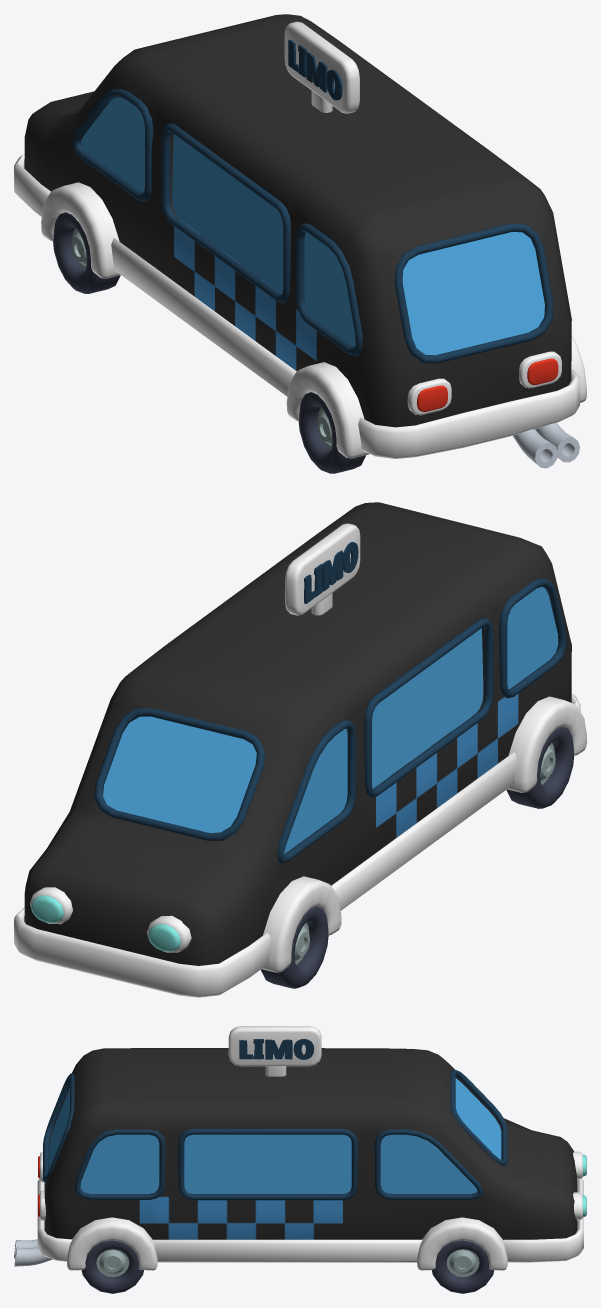
Rendered from Taxi_tier3.fbx.
The picture shows the model from 3 angles, top to bottom: view 1: azimuth 30°, elevation 25°; view 2: azimuth 150°, elevation 25°; view 3: azimuth 270°, elevation 25°; orthographic projection. The views are drawn at different scales.
Visible parts, largest first — view 1: Cube.046, Cube.048, Cube.047, Cylinder.035, Cylinder.038, Cube.045, Cylinder.034, Cylinder.037, Text.008, Cube.050, Cube.051, Cylinder.039 (+1 smaller); view 2: Cube.046, Cube.048, Cube.047, Cylinder.038, Cylinder.035, Cube.045, Cylinder.037, Cylinder.034, Text.008, Cylinder.033, Cylinder.032; view 3: Cube.046, Cube.048, Cube.047, Cylinder.035, Cylinder.038, Cube.045, Cylinder.037, Cylinder.034, Text.009, Cylinder.036, Cylinder.032.
Boxes of the visible parts, <box> form: Cube.046: <box>24,14,571,427</box>; Cube.048: <box>14,154,579,458</box>; Cube.047: <box>72,89,553,363</box>; Cylinder.035: <box>286,335,586,458</box>; Cylinder.038: <box>41,182,120,278</box>; Cube.045: <box>284,21,359,113</box>; Cylinder.034: <box>298,392,365,473</box>; Cylinder.037: <box>53,212,120,293</box>; Text.008: <box>288,39,342,100</box>; Cube.050: <box>407,351,561,415</box>; Cube.051: <box>417,358,558,411</box>; Cylinder.039: <box>513,429,557,468</box>; Cube.046: <box>24,502,571,965</box>; Cube.048: <box>14,693,580,997</box>; Cube.047: <box>94,578,566,863</box>; Cylinder.038: <box>261,876,341,972</box>; Cylinder.035: <box>507,696,586,792</box>; Cube.045: <box>285,523,360,615</box>; Cylinder.037: <box>261,906,328,988</box>; Cylinder.034: <box>506,726,574,808</box>; Text.008: <box>304,542,358,603</box>; Cylinder.033: <box>31,895,181,951</box>; Cylinder.032: <box>30,887,191,952</box>; Cube.046: <box>44,1048,576,1239</box>; Cube.048: <box>37,1178,583,1262</box>; Cube.047: <box>43,1069,507,1200</box>; Cylinder.035: <box>66,1217,157,1270</box>; Cylinder.038: <box>417,1217,507,1270</box>; Cube.045: <box>228,1026,321,1066</box>; Cylinder.037: <box>431,1240,494,1293</box>; Cylinder.034: <box>81,1240,143,1293</box>; Text.009: <box>239,1039,314,1059</box>; Cylinder.036: <box>14,1247,52,1266</box>; Cylinder.032: <box>573,1151,582,1220</box>.
Size of the model in its own units: 851 by 1073 by 2453.
